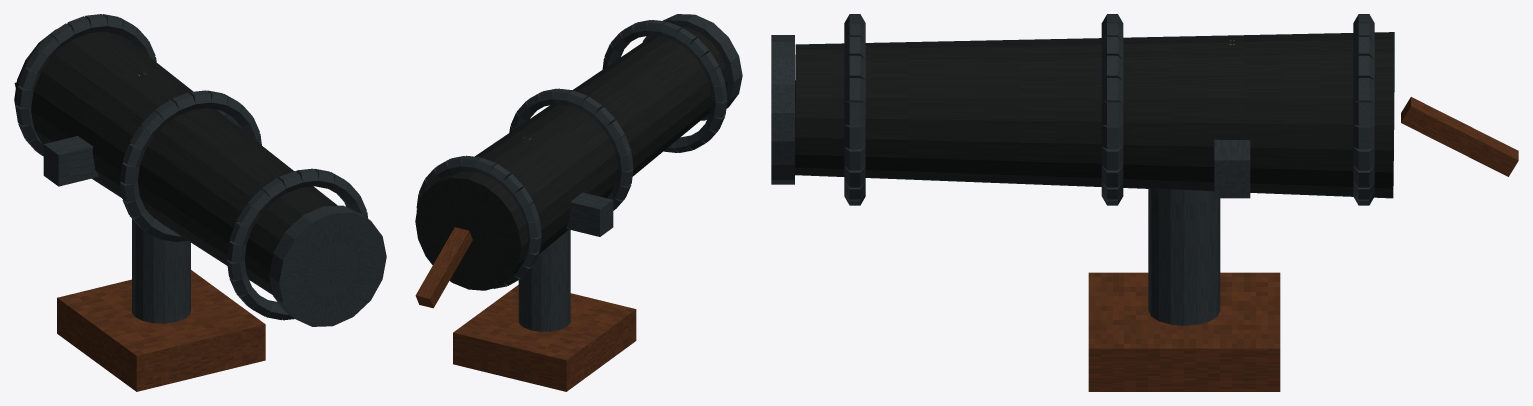
File: SM_swivel_gun.gltf
3 renders of one model, left to right at view 1: azimuth 30°, elevation 25°; view 2: azimuth 150°, elevation 25°; view 3: azimuth 270°, elevation 25°, orthographic. The views are drawn at different scales.
Visible parts, largest first — view 1: root; view 2: root; view 3: root.
Part boxes in pixels (x1=…): root: x1=14, y1=14, x2=386, y2=391; root: x1=415, y1=14, x2=742, y2=391; root: x1=771, y1=14, x2=1518, y2=391.
Size of the model in its own units: 0.42 by 0.6105 by 1.25.
Materials: 4 (4 with a texture image).
